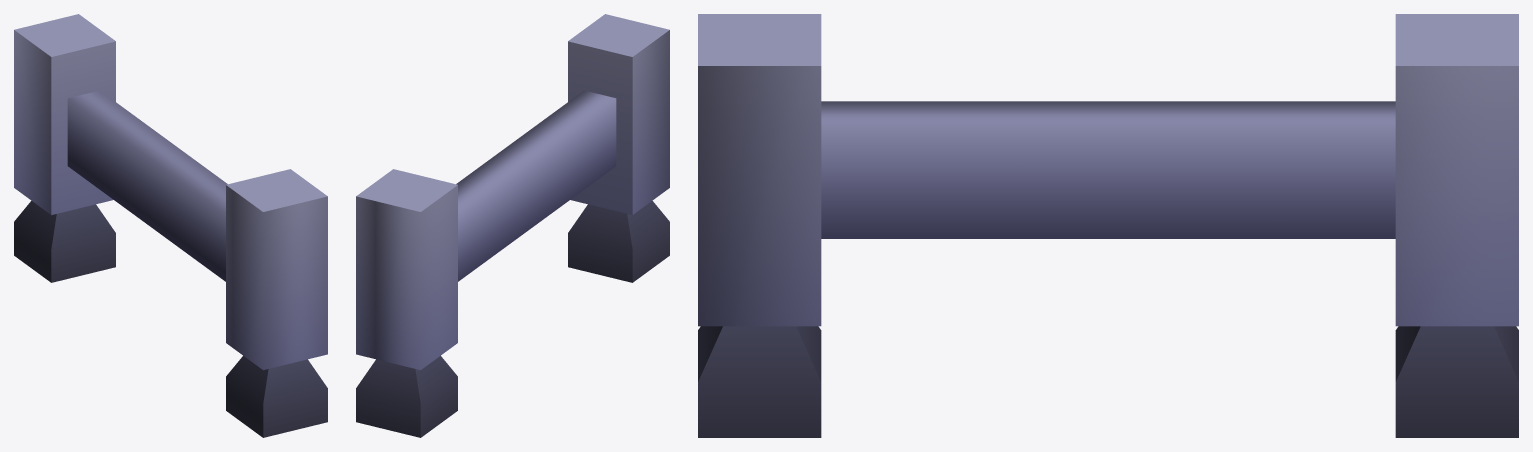
File: structure-short.glb
The picture shows the model from 3 angles, left to right: view 1: azimuth 30°, elevation 25°; view 2: azimuth 150°, elevation 25°; view 3: azimuth 270°, elevation 25°; orthographic projection. The views are drawn at different scales.
Parts seen in each view (by area): view 1: structure-short; view 2: structure-short; view 3: structure-short.
Part boxes in pixels (left/top/right/bottom): structure-short: left=14, top=14, right=327, bottom=437; structure-short: left=356, top=14, right=669, bottom=437; structure-short: left=698, top=14, right=1518, bottom=437.
Bounding box in the file's own units: 0.15 × 0.5 × 1.
